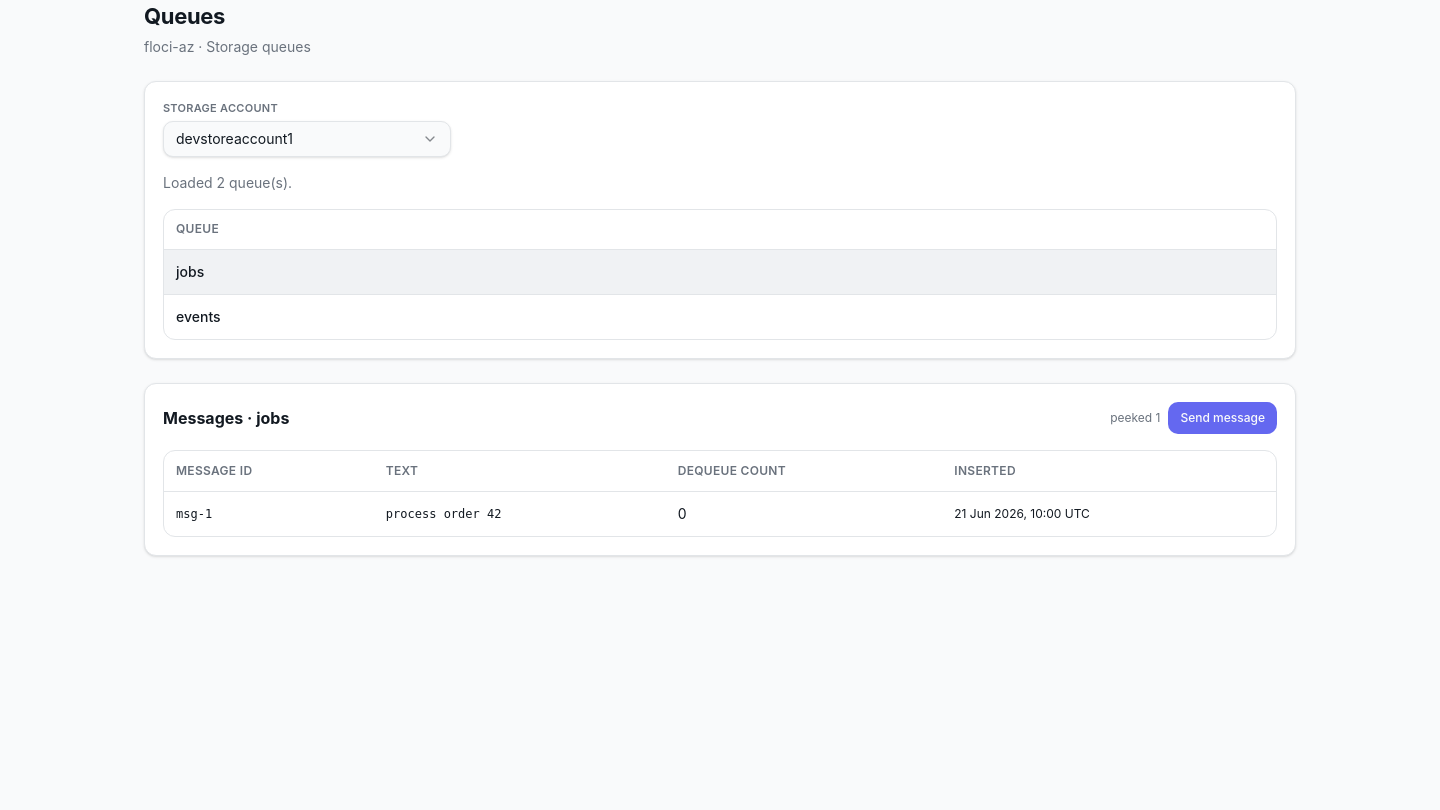
AzureQueuesView › sends a message when write mode allows it
This screenshot has width=1440, height=810.
Click the button "Send message": (1223, 418) [1168, 402, 1277, 434]
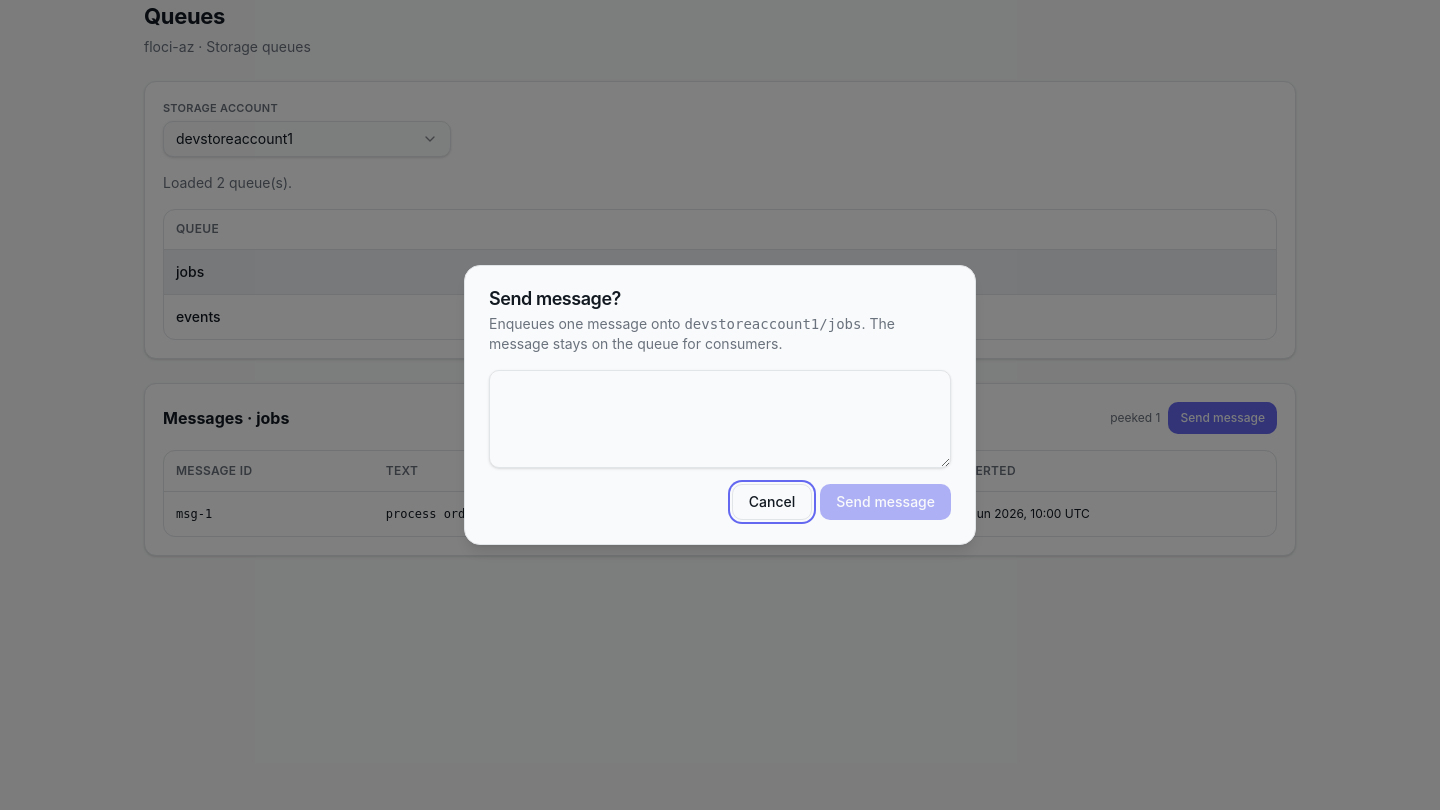
In the text box named "Queue message text": (720, 419) [489, 370, 951, 468], type "process order 42"
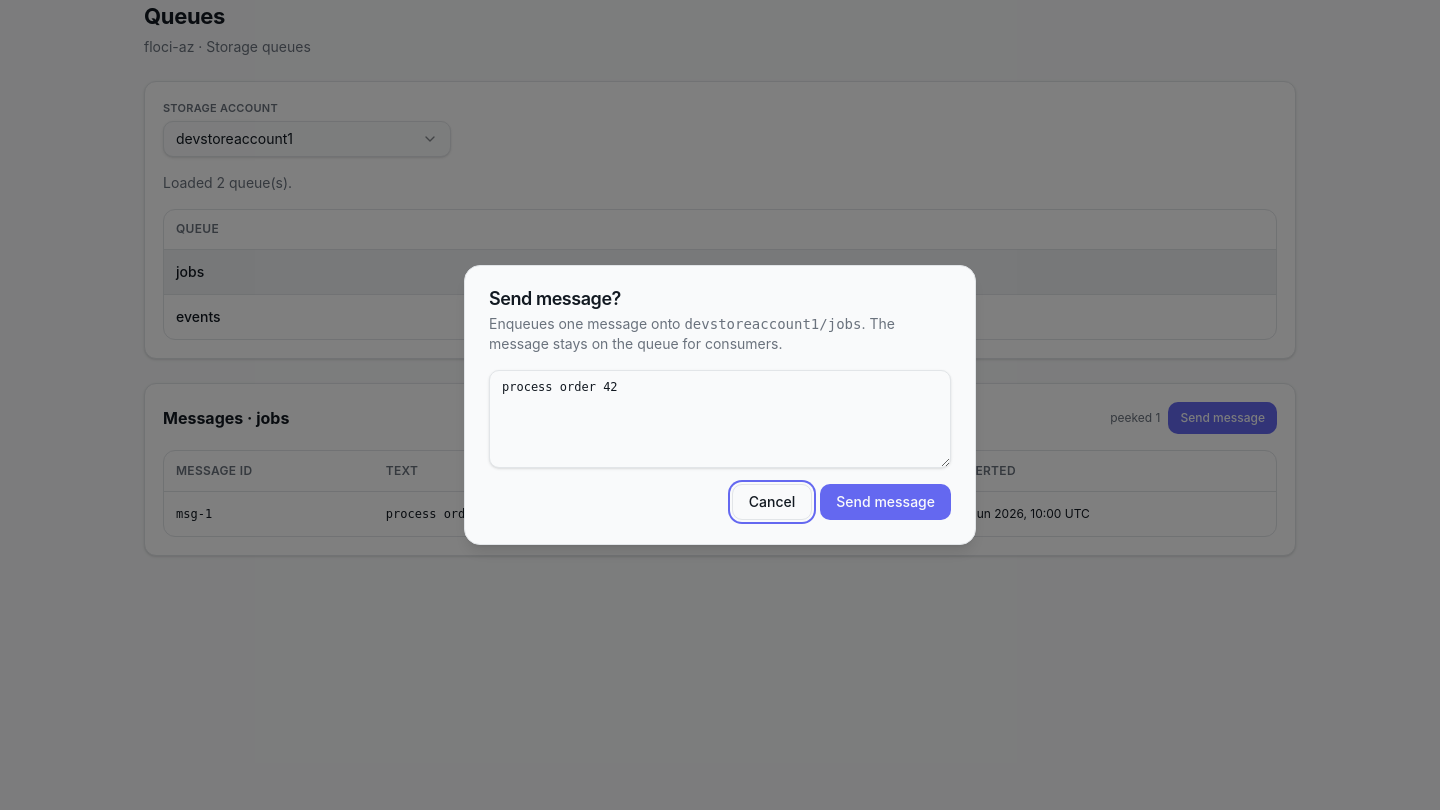
Click the button "Send message": (886, 502) [820, 484, 951, 520]
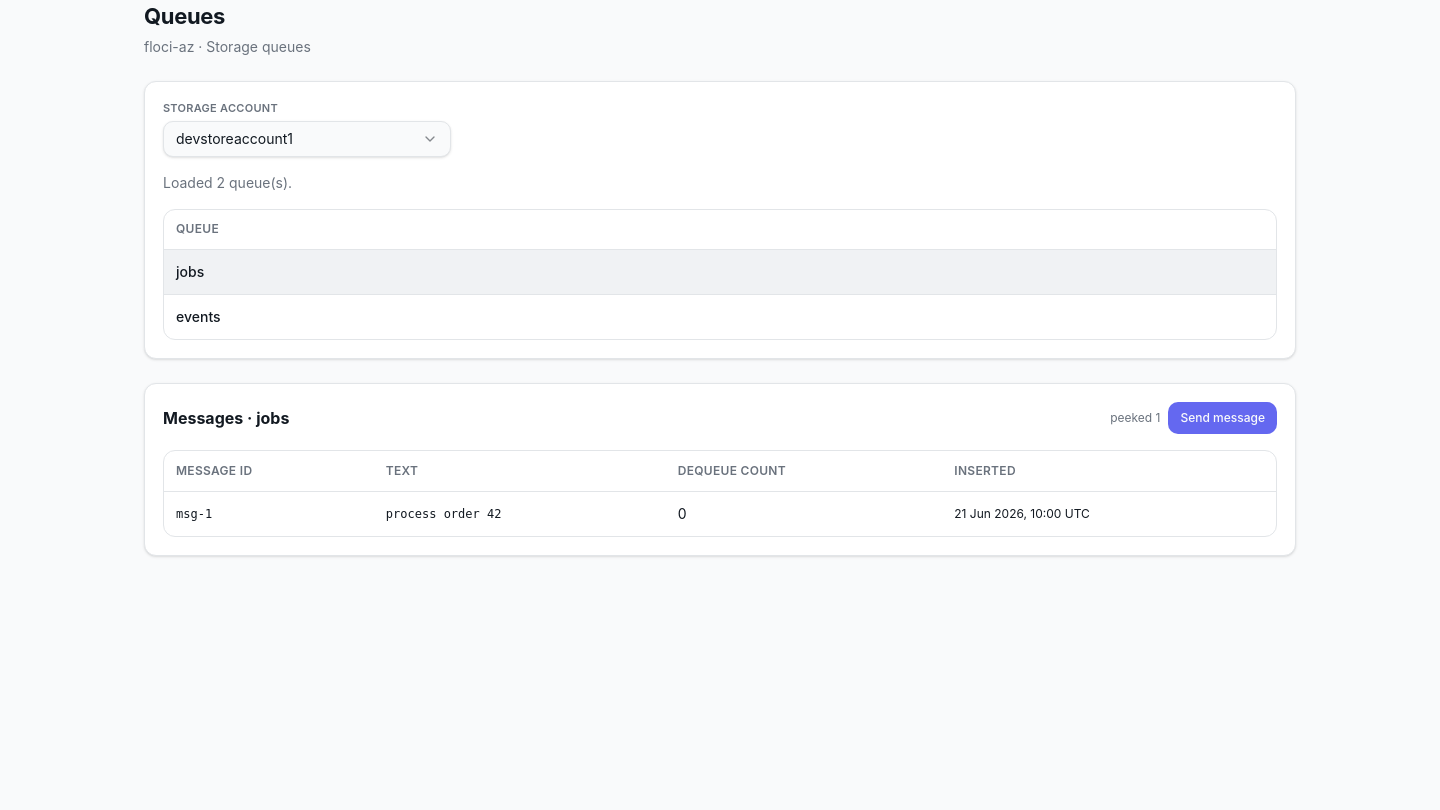
Expected: the dialog is gone
